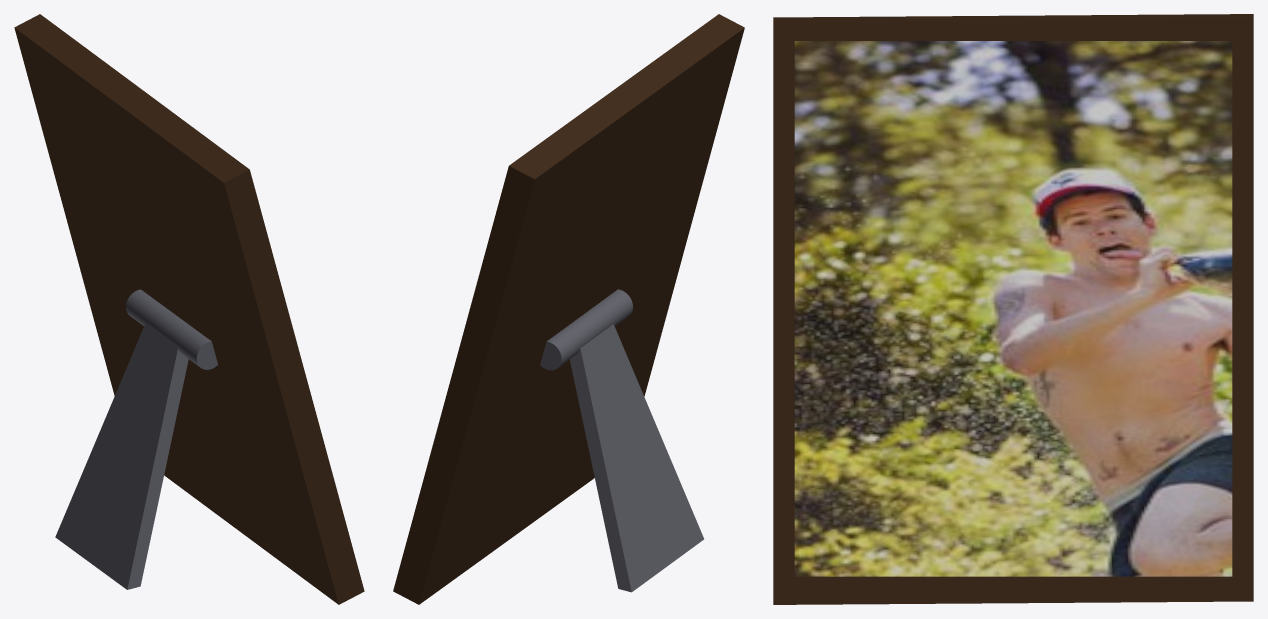
The model's file is Fotolijstje.fbx.
3 renders of one model, left to right at view 1: azimuth 30°, elevation 25°; view 2: azimuth 150°, elevation 25°; view 3: azimuth 270°, elevation 25°, orthographic. The views are drawn at different scales.
Parts seen in each view (by area): view 1: Cube, Cube_1, Cylinder; view 2: Cube, Cube_1, Cylinder; view 3: Cube.
Part boxes in pixels (left/top/right/bottom): Cube: left=14, top=14, right=364, bottom=604; Cube_1: left=55, top=324, right=188, bottom=589; Cylinder: left=126, top=289, right=217, bottom=369; Cube: left=393, top=14, right=744, bottom=604; Cube_1: left=569, top=324, right=703, bottom=592; Cylinder: left=540, top=289, right=632, bottom=370; Cube: left=773, top=14, right=1253, bottom=604.
Size of the model in its own units: 12.66 by 32.96 by 27.14.
Materials: 3 (1 with a texture image).
